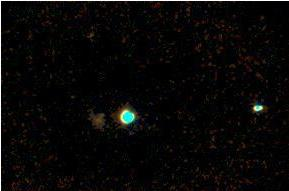star: (74, 19, 104, 49)
